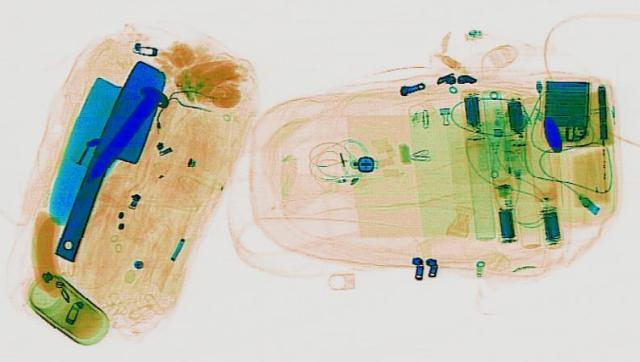Knife: (49, 57, 173, 263)
